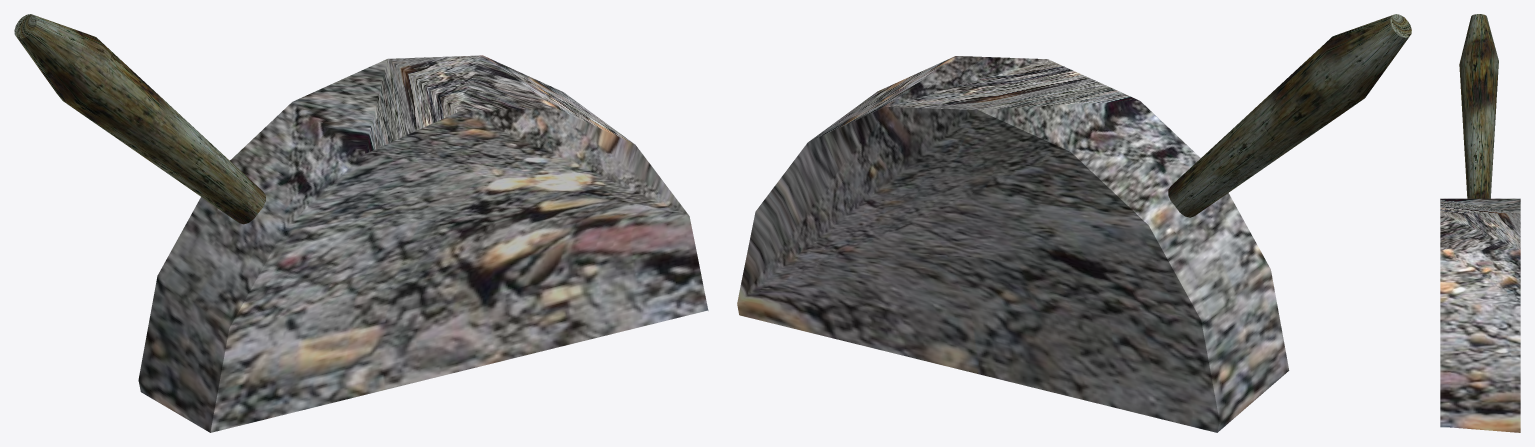
The model's file is trigger.FBX.
3 renders of one model, left to right at view 1: azimuth 30°, elevation 25°; view 2: azimuth 150°, elevation 25°; view 3: azimuth 270°, elevation 25°, orthographic. The views are drawn at different scales.
Parts seen in each view (by area): view 1: Base, Trigger; view 2: Base, Trigger; view 3: Base, Trigger.
Part boxes in pixels (x1,y1,x2,y2): Base: (138, 55, 708, 432); Trigger: (14, 14, 265, 224); Base: (737, 56, 1289, 432); Trigger: (1168, 14, 1411, 217); Base: (1440, 198, 1520, 432); Trigger: (1459, 14, 1498, 198).
Size of the model in its own units: 26.37 by 16.85 by 5.
